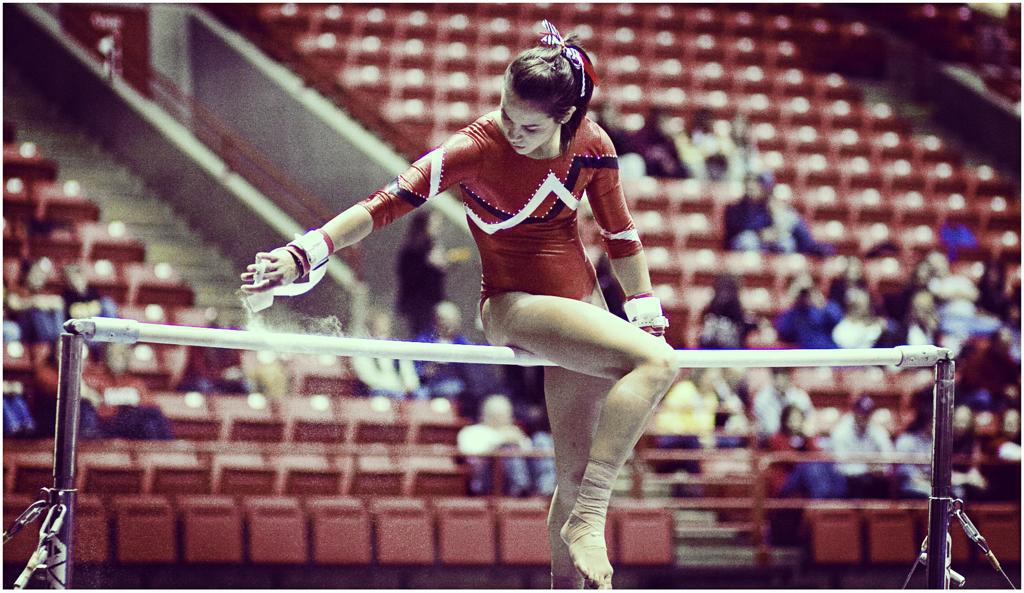face: (502, 93, 559, 154), (443, 306, 463, 333), (698, 366, 718, 392), (746, 176, 765, 199), (775, 370, 794, 391), (916, 296, 934, 318), (371, 318, 390, 338), (28, 265, 45, 287), (727, 363, 745, 383), (1004, 413, 1021, 434), (743, 303, 759, 325), (956, 410, 971, 433), (931, 255, 948, 275), (854, 295, 869, 314), (978, 414, 992, 434), (717, 285, 733, 302), (856, 408, 872, 425), (787, 414, 802, 432), (924, 417, 938, 434)
